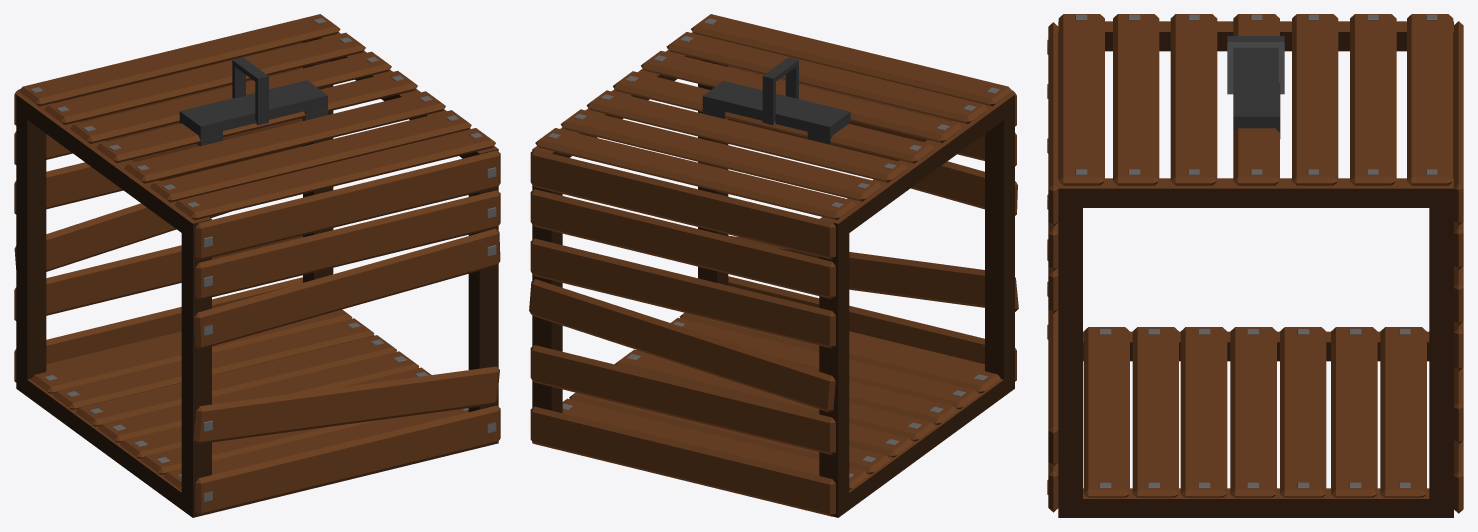
File: WoodenElevator.fbx
3 renders of one model, left to right at view 1: azimuth 30°, elevation 25°; view 2: azimuth 150°, elevation 25°; view 3: azimuth 270°, elevation 25°, orthographic. The views are drawn at different scales.
Visible parts, largest first — view 1: Cube; view 2: Cube; view 3: Cube.
Part boxes in pixels (x1,y1,x2,y2): Cube: [14, 14, 500, 517]; Cube: [529, 14, 1018, 517]; Cube: [1047, 14, 1463, 517].
Bounding box in the file's own units: 252 × 273 × 263.
